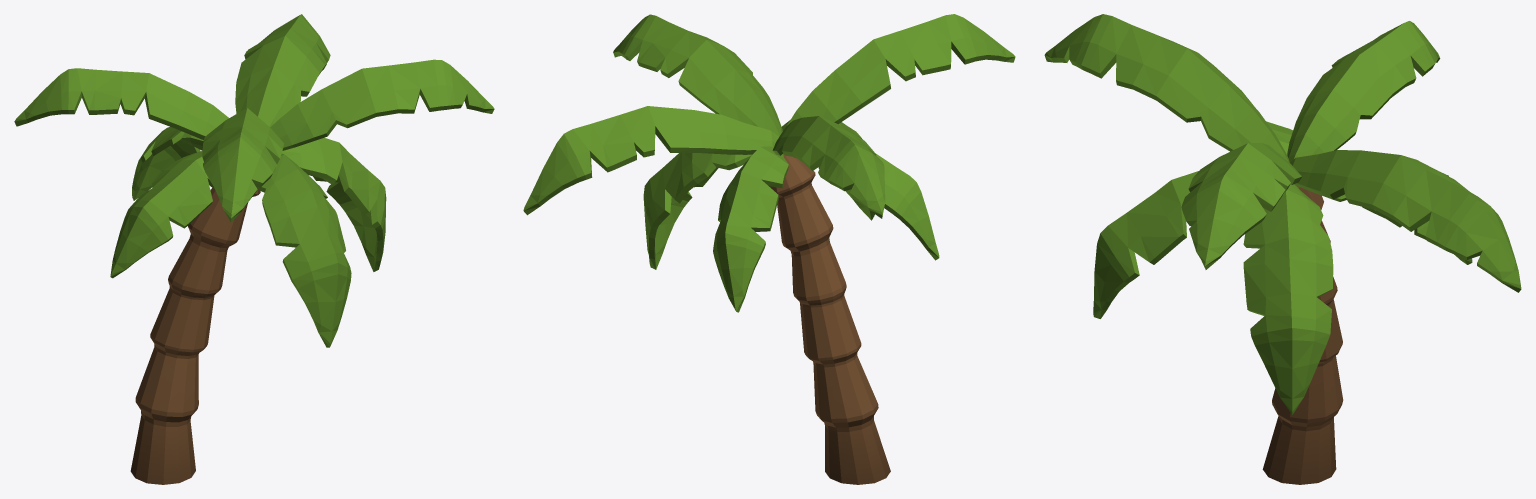
The model's file is palm-c.glb.
The picture shows the model from 3 angles, left to right: view 1: azimuth 30°, elevation 25°; view 2: azimuth 150°, elevation 25°; view 3: azimuth 270°, elevation 25°; orthographic projection. The views are drawn at different scales.
Size of the model in its own units: 2.64 by 2.69 by 2.58.
